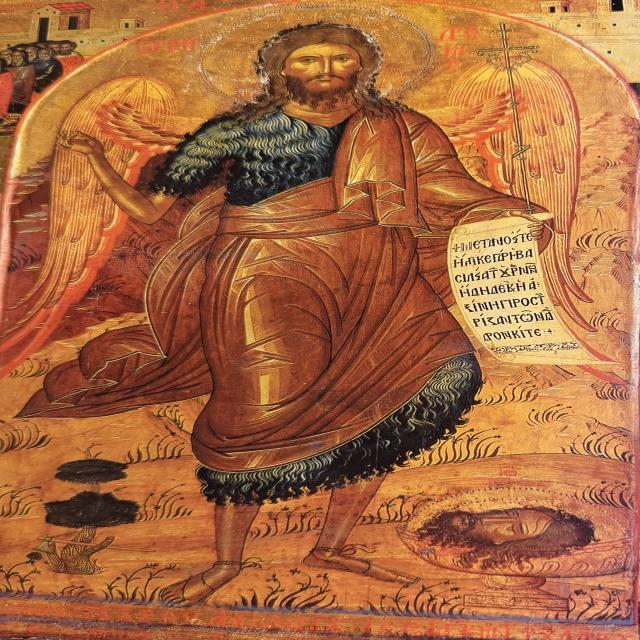angel: (12, 11, 636, 605)
aura: (197, 9, 459, 105)
head: (414, 505, 590, 562)
scroll: (415, 218, 620, 376)
trophy: (385, 486, 640, 620)
wing: (1, 72, 221, 377), (429, 48, 605, 322)
